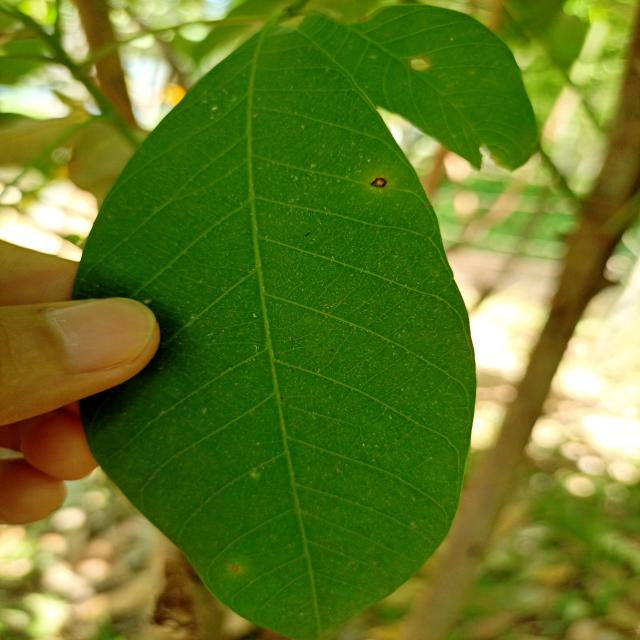Colletotrichum: (370, 178, 388, 187), (231, 566, 240, 572)
